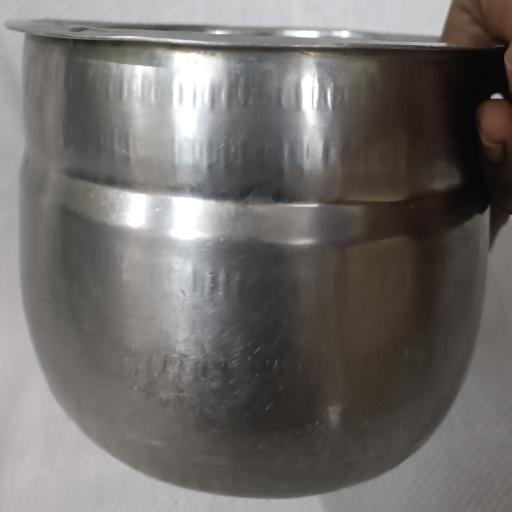vessel: (10, 21, 503, 496)
